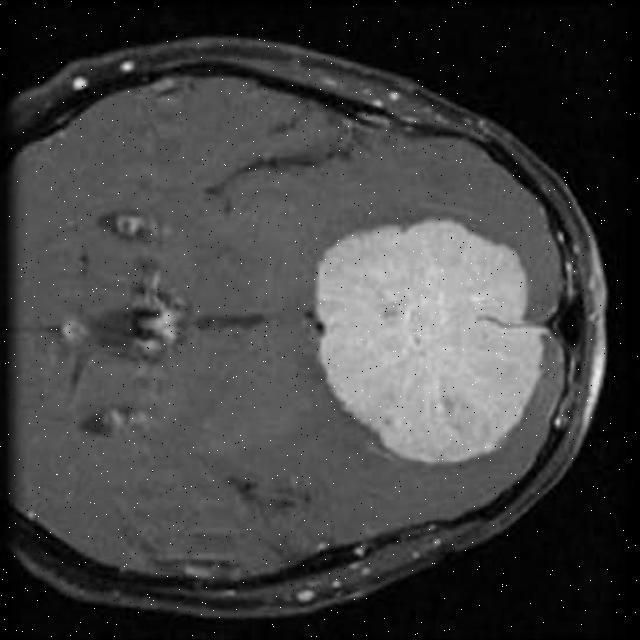Meningioma: (319, 220, 546, 463)
